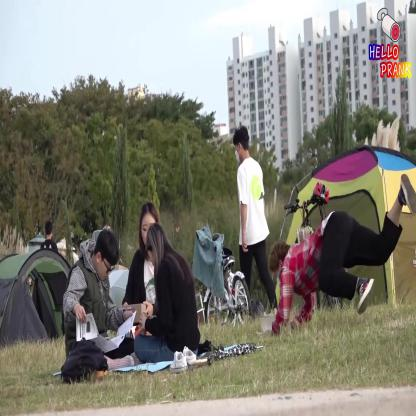Fall_Down: (260, 172, 416, 337)
